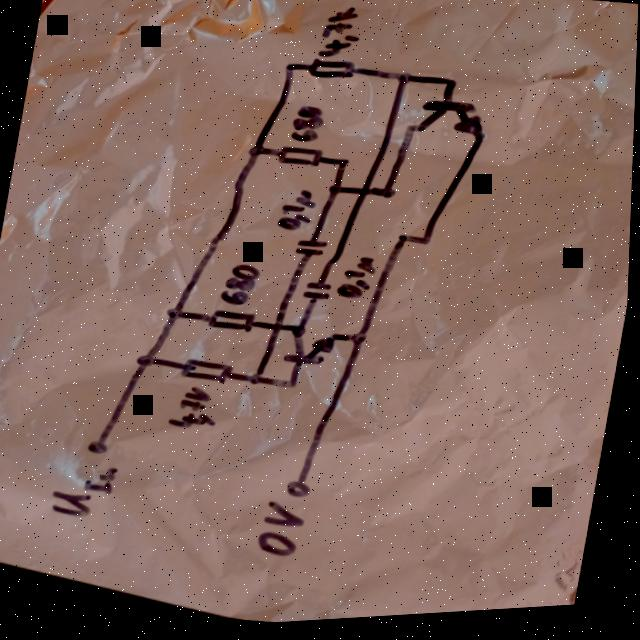capacitor: (292, 239, 331, 266), (301, 284, 335, 310)
crossover: (356, 188, 374, 204), (269, 324, 287, 340)
junction: (135, 355, 159, 372), (289, 327, 310, 344), (393, 76, 414, 92), (379, 191, 397, 207), (352, 336, 371, 351), (246, 148, 265, 163), (325, 188, 344, 203), (249, 375, 266, 391), (334, 160, 351, 175), (166, 311, 185, 324), (442, 82, 459, 95), (288, 381, 302, 396), (419, 241, 434, 254), (282, 65, 296, 77), (396, 238, 410, 250), (403, 129, 416, 140)
resistor: (179, 357, 237, 391), (206, 310, 259, 339), (305, 59, 356, 88), (274, 147, 324, 175)
terminal: (285, 481, 316, 505), (87, 439, 112, 458)
text: (48, 459, 123, 526), (257, 501, 311, 566), (166, 384, 225, 438), (315, 6, 365, 67), (275, 189, 319, 240), (336, 257, 379, 308), (219, 264, 263, 313), (288, 107, 327, 150)
transistor: (416, 101, 491, 147), (284, 331, 339, 374)
